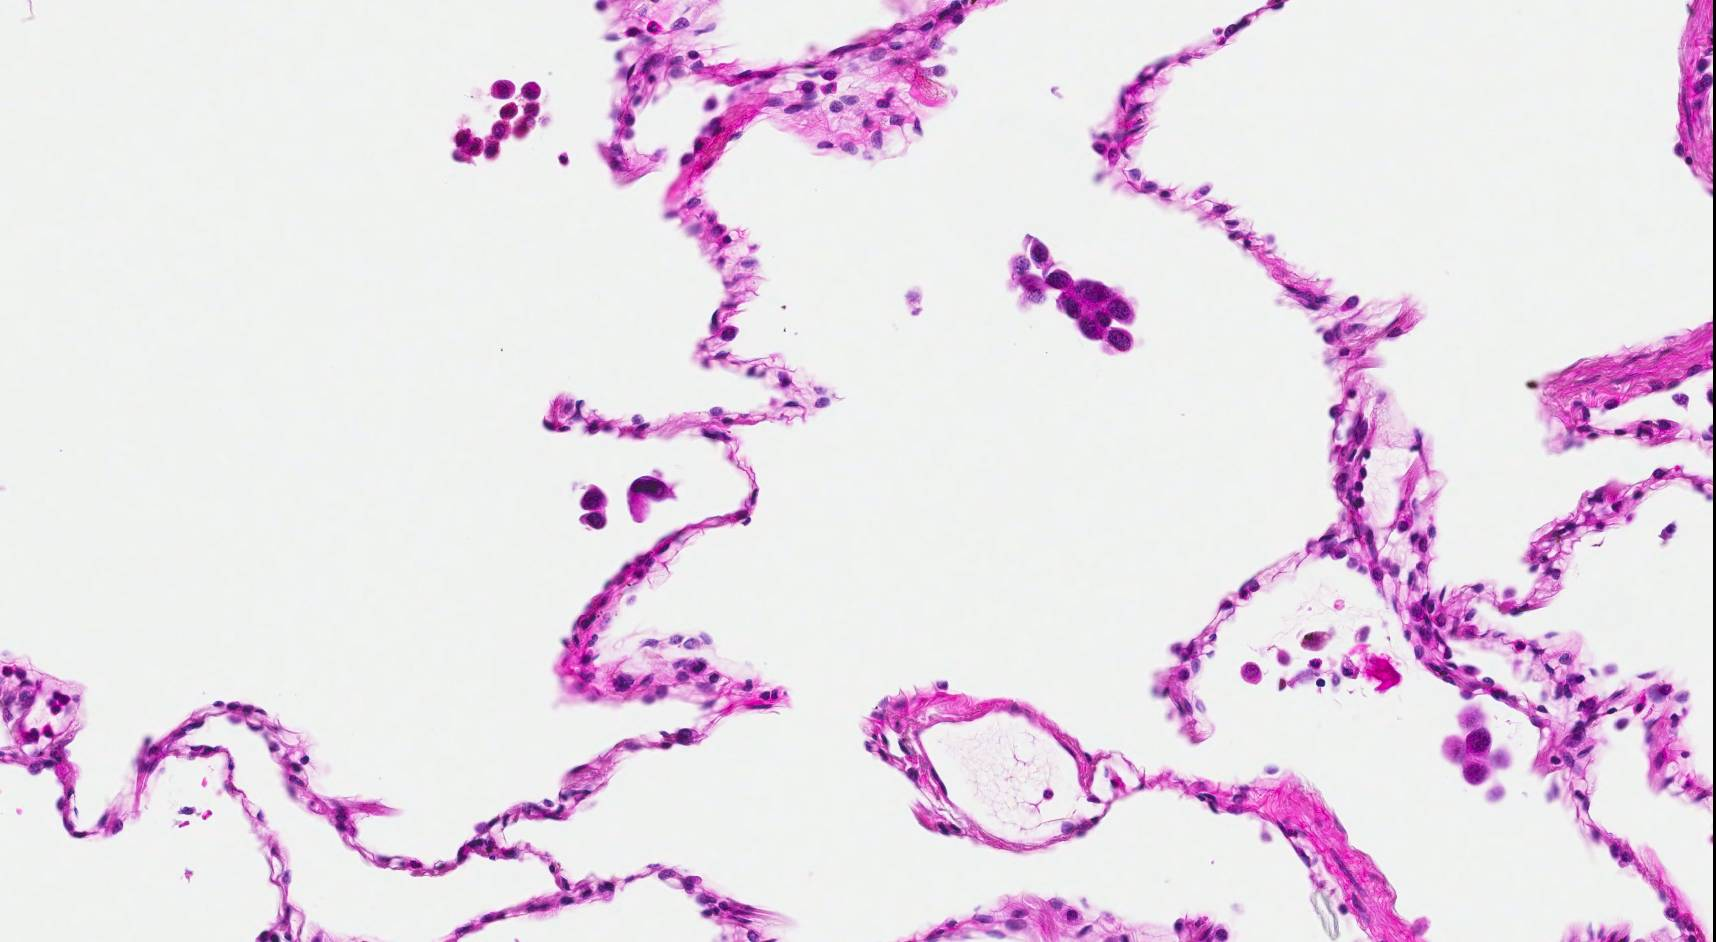stas: (1006, 231, 1145, 362), (1440, 709, 1517, 806), (624, 474, 680, 525), (576, 484, 611, 532)
